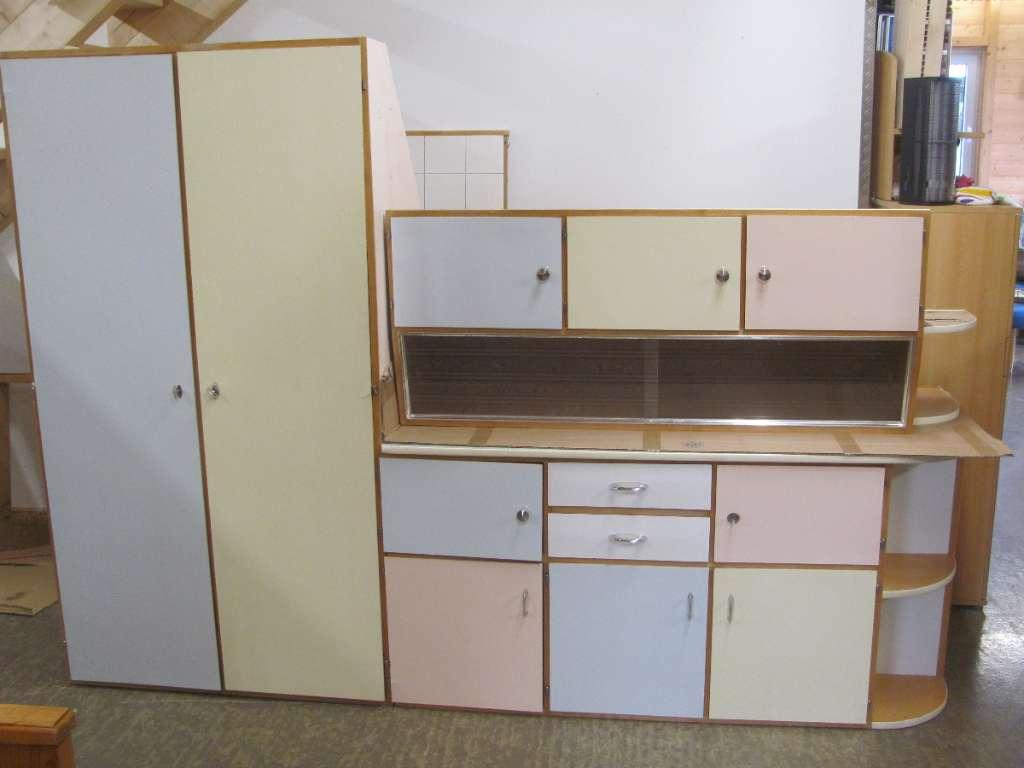cabinet_door: (203, 51, 376, 697), (31, 53, 203, 685), (704, 573, 866, 728), (551, 568, 710, 713), (382, 563, 541, 708), (743, 216, 922, 330), (572, 223, 741, 330), (398, 224, 567, 329), (717, 471, 885, 564), (378, 463, 541, 557), (550, 516, 711, 562), (546, 467, 706, 511)
handle: (511, 586, 536, 622), (720, 590, 741, 628), (678, 588, 699, 626), (608, 478, 649, 497), (608, 531, 646, 551), (510, 503, 536, 528), (532, 262, 553, 289), (169, 380, 189, 405), (756, 263, 774, 290), (715, 263, 734, 288), (203, 383, 224, 404), (722, 508, 745, 527)
